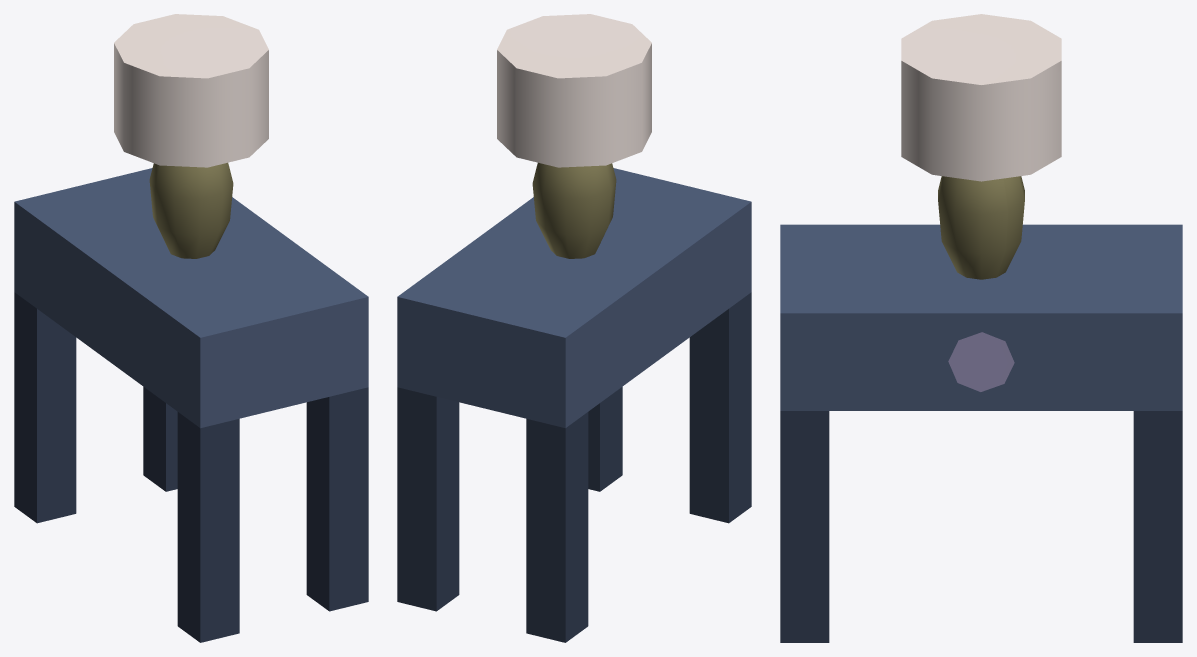
Rendered from Nightstand_Lamp.fbx.
The picture shows the model from 3 angles, left to right: view 1: azimuth 30°, elevation 25°; view 2: azimuth 150°, elevation 25°; view 3: azimuth 270°, elevation 25°; orthographic projection. The views are drawn at different scales.
Parts seen in each view (by area): view 1: Nightstand, Light, Lamp_Base; view 2: Nightstand, Light, Lamp_Base; view 3: Nightstand, Light, Lamp_Base.
Boxes of the visible parts, x1,y1,x2,y2 form: Nightstand: (14, 168, 368, 642); Light: (114, 14, 268, 167); Lamp_Base: (149, 162, 233, 258); Nightstand: (397, 168, 751, 642); Light: (497, 14, 651, 167); Lamp_Base: (532, 162, 616, 258); Nightstand: (780, 224, 1182, 642); Light: (901, 14, 1061, 181); Lamp_Base: (938, 176, 1024, 279).
Bounding box in the file's own units: 0.01 × 0.0289 × 0.0192.
